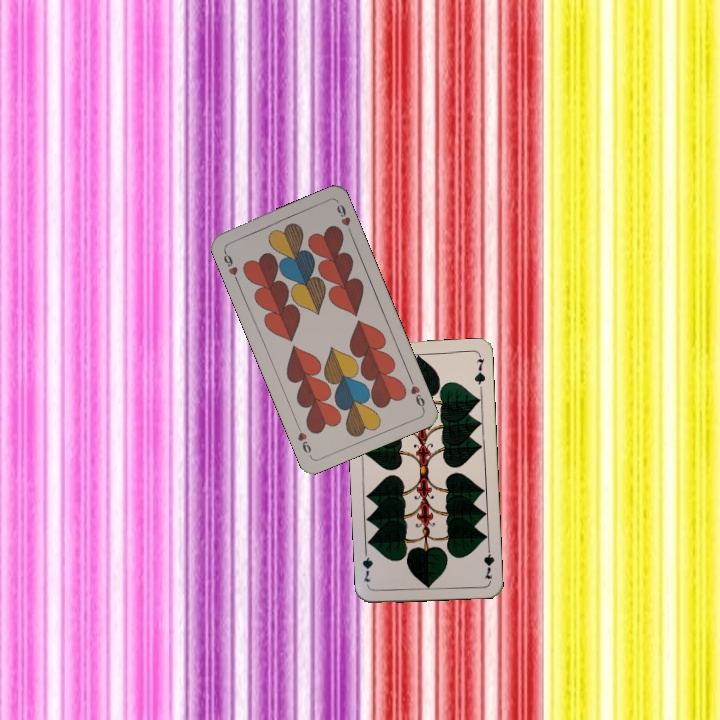G7: (480, 541, 497, 582)
H9: (405, 373, 427, 412), (219, 246, 241, 285)
